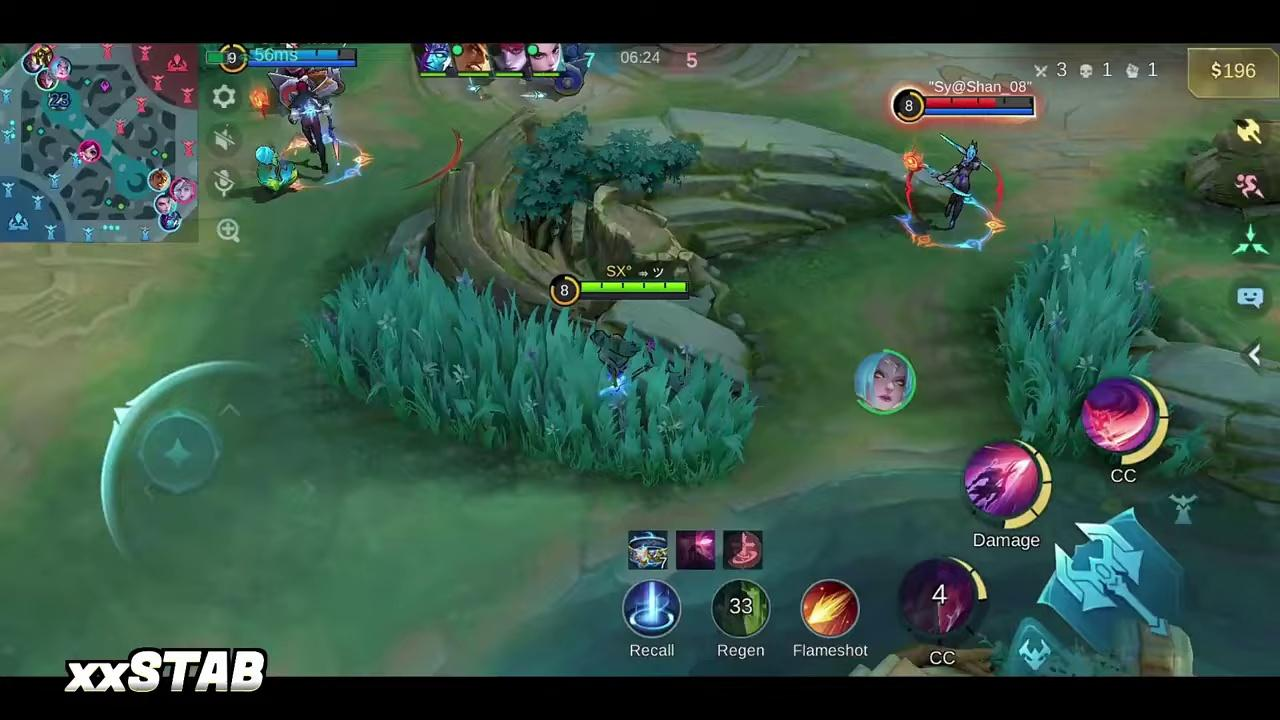Adc_Aliado: (153, 195, 181, 213)
Adc_Enemigo: (172, 178, 195, 203)
Arbusto: (304, 253, 746, 487), (994, 246, 1174, 448)
Arlott: (590, 322, 684, 474)
Exp_Aliado: (35, 69, 61, 90)
Exp_Enemigo: (29, 47, 55, 62)
HP_Aliado: (247, 50, 358, 60)
HP_Enemigo: (914, 100, 1043, 110)
HP_Heroe_Principal: (577, 276, 700, 293)
Hechizo_Batalla: (798, 578, 874, 650)
Julian: (278, 86, 356, 180)
Jungla_Aliado: (23, 55, 43, 73)
Jungla_Enemigo: (48, 59, 77, 79)
Karina: (934, 130, 1012, 258)
Mana: (908, 108, 1042, 118), (247, 60, 362, 67)
Mid_Aliado: (162, 216, 184, 228)
Mid_Enemigo: (79, 141, 105, 163)
Roamer_Aliado: (144, 169, 174, 192)
Skill2: (964, 420, 1060, 542)
skill3: (1090, 360, 1178, 470)
